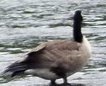goose: (4, 7, 100, 86)
